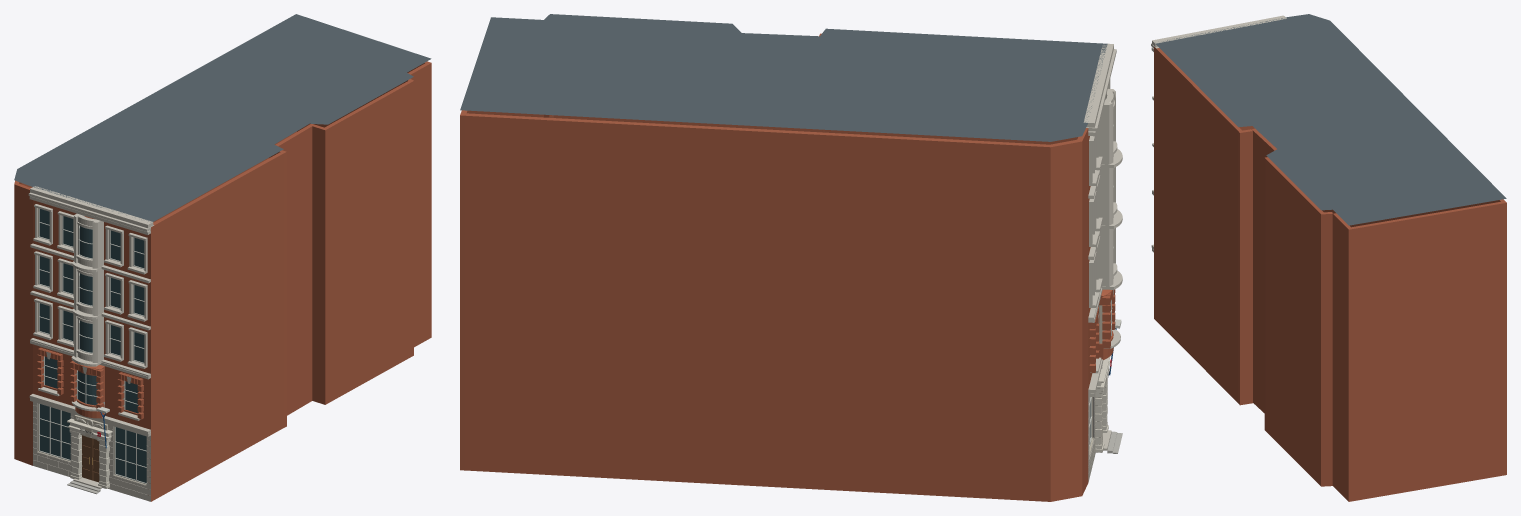
File: ksw-exterior-101d59126042.glb
3 views of the same model, side by side, from view 1: azimuth 30°, elevation 25°; view 2: azimuth 150°, elevation 25°; view 3: azimuth 270°, elevation 25° (orthographic). The views are drawn at different scales.
Visible parts, largest first — view 1: KSW.001; view 2: KSW.001; view 3: KSW.001.
Part boxes in pixels (bbox=[...]): KSW.001: bbox=[14, 14, 431, 501]; KSW.001: bbox=[460, 14, 1122, 501]; KSW.001: bbox=[1151, 14, 1506, 501].
Size of the model in its own units: 33.77 by 20.55 by 23.99.
